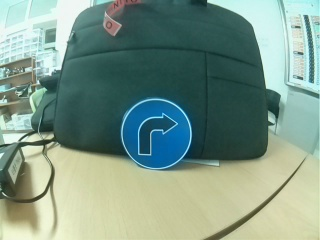right_turn: (120, 100, 188, 167)
